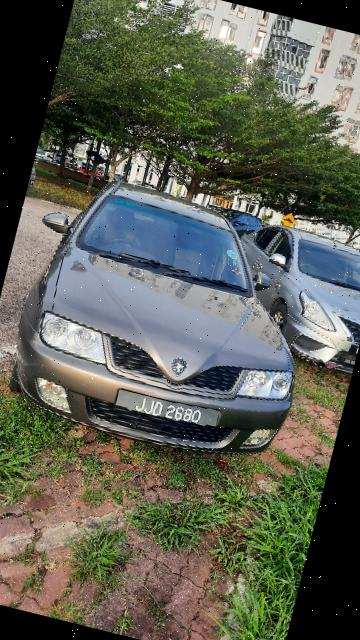License_Plate: (111, 383, 225, 438)
car: (1, 163, 327, 481), (215, 208, 360, 376)
